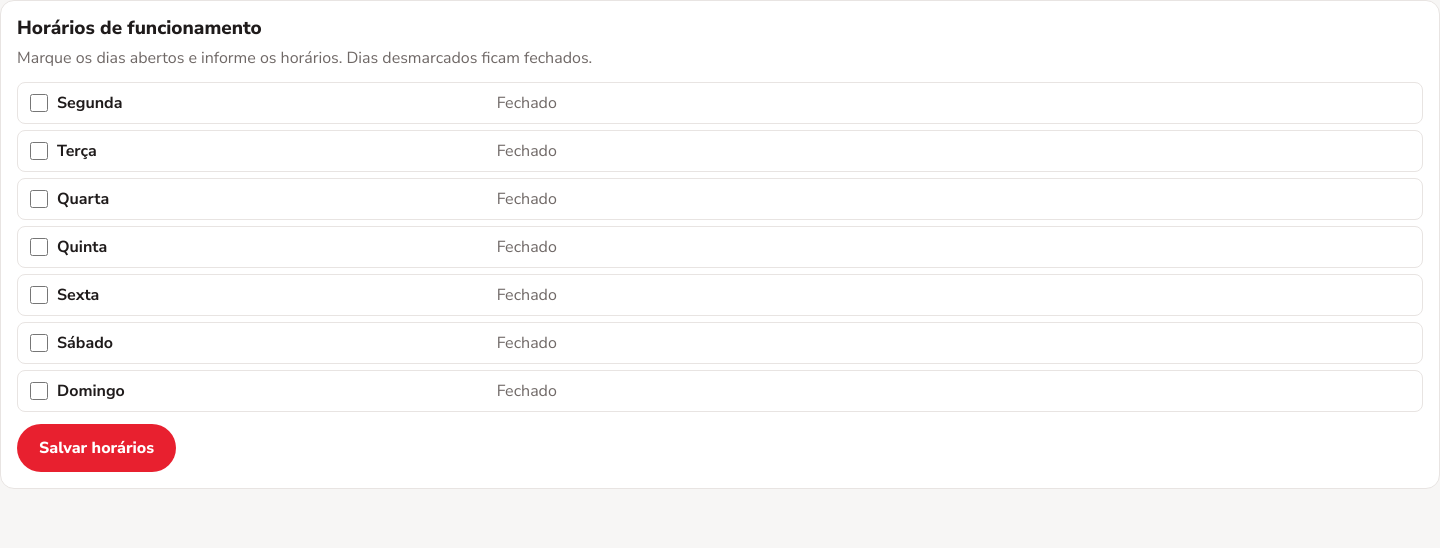
Test: FormularioHorarios › impede intervalos invertidos ou que cruzem a meia-noite
Click the checkbox labelled "Terça" at (39, 151), box [30, 142, 48, 160]
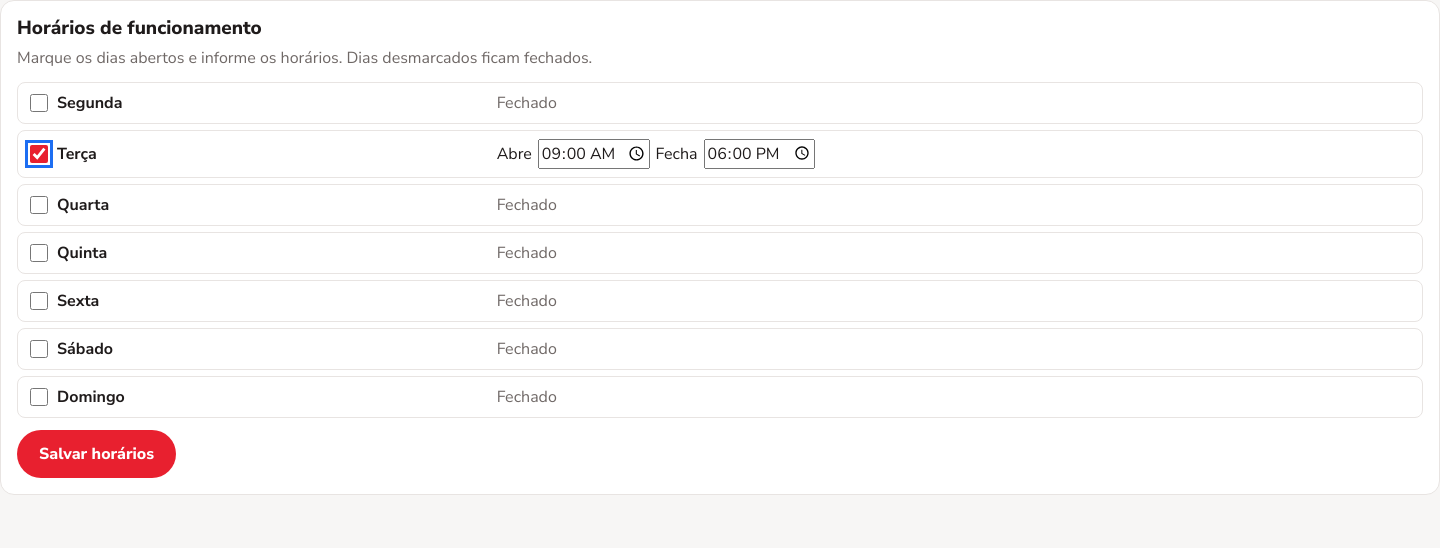
Replace the text in the time field labelled "Abre" with "22:00" at (594, 154), box [538, 139, 650, 169]
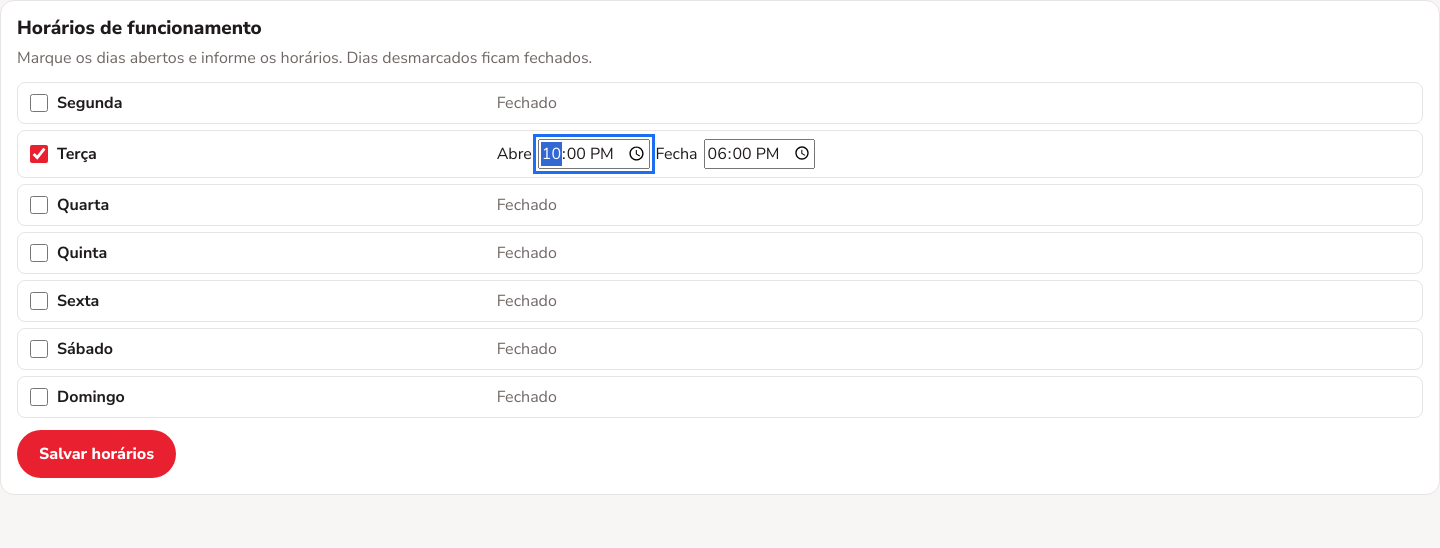
Replace the text in the time field labelled "Fecha" with "02:00" at (759, 154), box [704, 139, 815, 169]
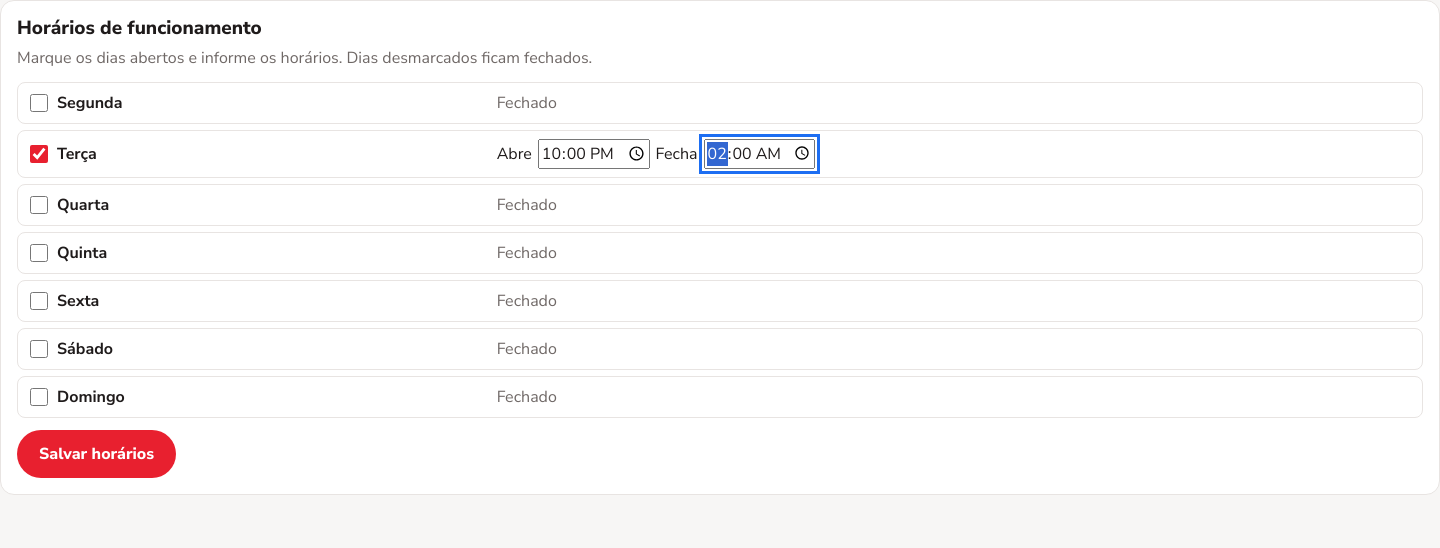
Click the button "Salvar horários" at (97, 454), box [17, 430, 176, 478]
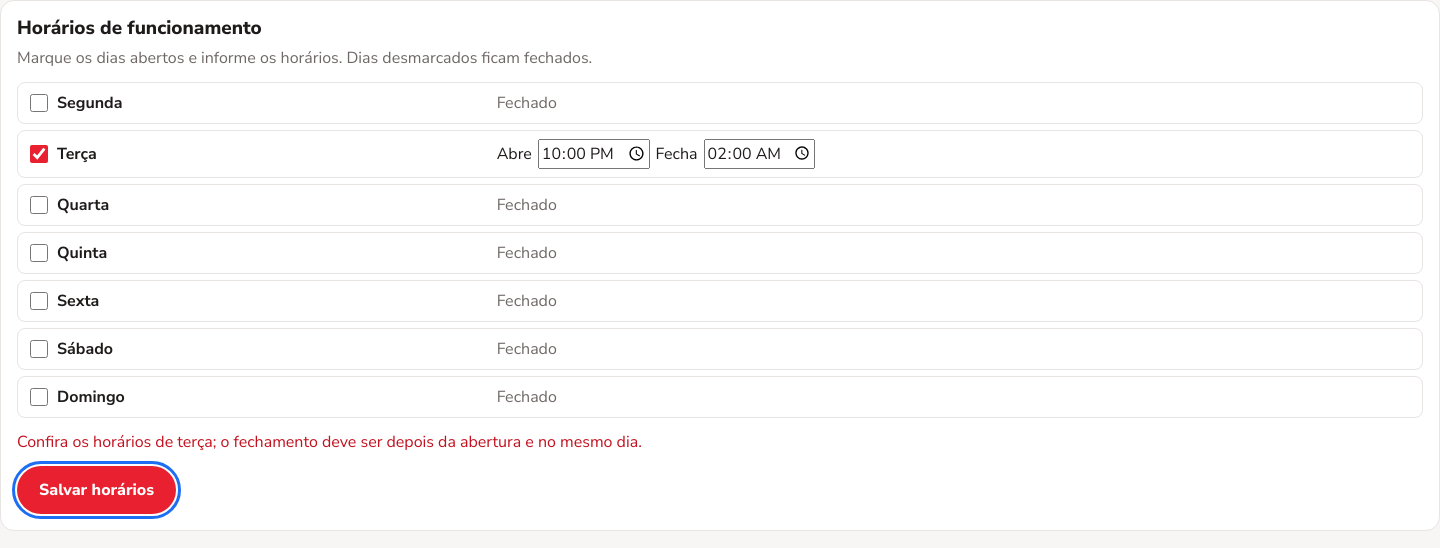
Now the message shows "no mesmo dia", box [17, 431, 642, 453]
